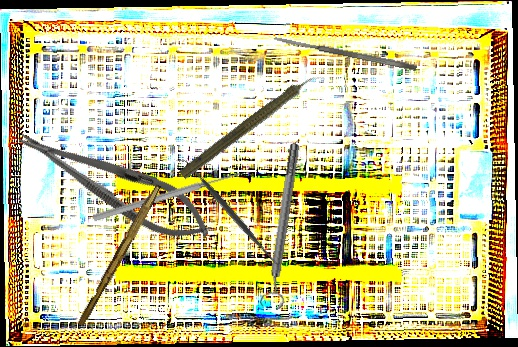Fixation Ring: (257, 141, 310, 311)
Handpiece: (177, 65, 327, 185)
Needle Holder: (9, 112, 221, 256)
Pusher: (91, 168, 243, 224)
Scalpel Handle: (76, 181, 162, 329)
Spatula Surgical: (175, 150, 285, 274), (273, 34, 418, 72)
